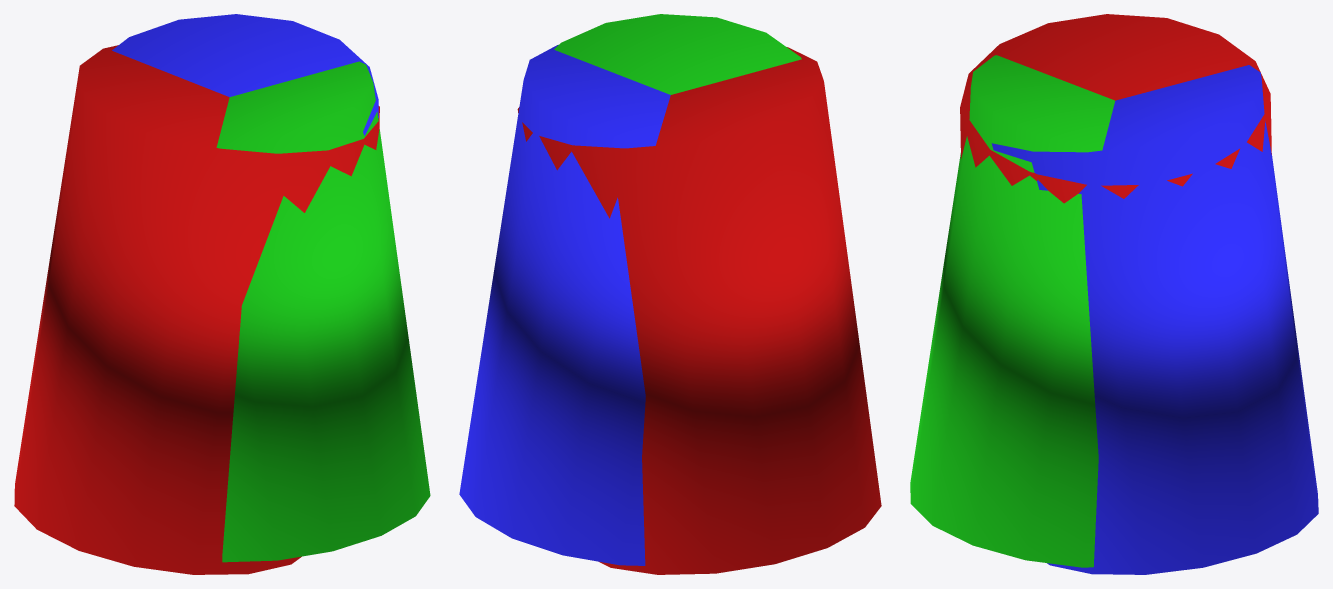
3 renders of one model, left to right at view 1: azimuth 30°, elevation 25°; view 2: azimuth 150°, elevation 25°; view 3: azimuth 270°, elevation 25°, orthographic.
Parts seen in each view (by area): view 1: rod_red, rod_green, rod_blue; view 2: rod_red, rod_blue, rod_green; view 3: rod_blue, rod_green, rod_red.
Boxes of the visible parts, box(x1,y1,x2,y2) form: rod_red: box(14, 45, 379, 574); rod_green: box(216, 61, 430, 562); rod_blue: box(112, 14, 378, 135); rod_red: box(517, 47, 881, 574); rod_blue: box(459, 45, 670, 565); rod_green: box(554, 14, 801, 94); rod_blue: box(991, 65, 1318, 574); rod_green: box(910, 55, 1114, 567); rod_red: box(960, 14, 1271, 203).
Bounding box in the file's own units: 0.2833 × 0.3424 × 0.2801.
